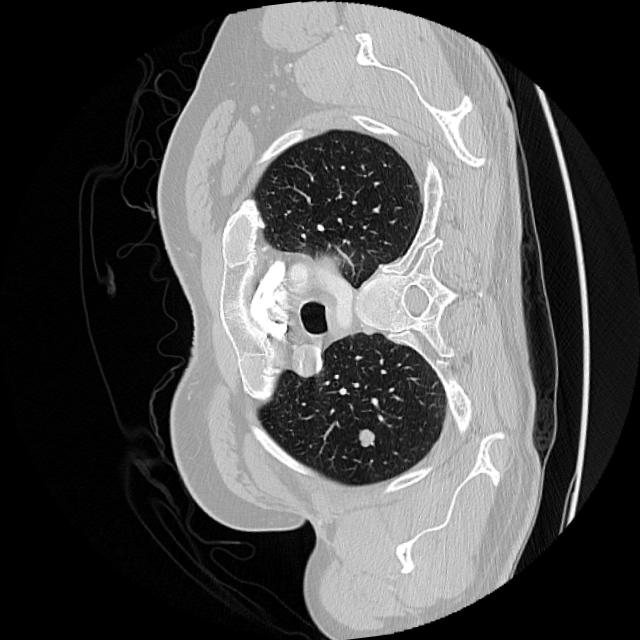nodule: (344, 417, 386, 459)
